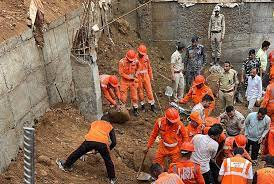arm: (142, 117, 160, 154), (179, 123, 194, 151), (258, 84, 271, 111), (118, 62, 135, 81), (193, 162, 206, 183), (215, 159, 225, 183), (245, 161, 255, 182), (268, 49, 274, 79), (148, 60, 156, 80)
face: (255, 110, 264, 120), (225, 109, 235, 117)
footwear: (56, 155, 74, 171), (131, 107, 139, 117)
helmet: (164, 105, 182, 123), (230, 133, 248, 148), (136, 40, 149, 55), (192, 74, 206, 86), (125, 48, 136, 62), (110, 74, 119, 88)
human: (54, 108, 125, 182), (144, 102, 188, 167), (217, 137, 254, 182), (217, 57, 240, 112), (187, 97, 219, 134), (242, 58, 263, 110), (261, 67, 273, 157), (254, 155, 273, 183)
leg: (55, 139, 94, 172), (98, 144, 119, 182), (245, 95, 256, 114), (224, 91, 235, 110)
noglove: (142, 144, 151, 154)
nohelmet: (208, 123, 222, 135), (224, 104, 235, 114), (261, 39, 271, 48)
novest: (219, 68, 238, 92)
vest: (81, 119, 114, 144), (158, 119, 182, 151), (221, 157, 250, 183), (169, 159, 200, 181), (191, 136, 213, 167), (246, 114, 268, 141), (190, 104, 212, 127), (245, 74, 262, 100), (218, 134, 238, 155), (262, 80, 273, 113), (190, 85, 208, 105), (258, 48, 272, 73), (266, 114, 274, 157), (255, 166, 273, 183)
